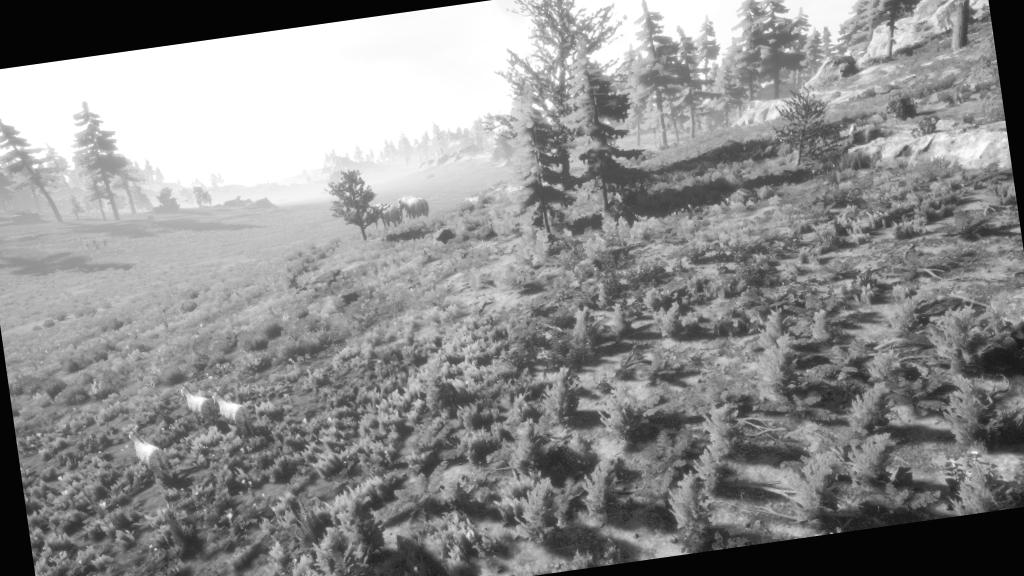zebra: (204, 370, 280, 451), (118, 412, 184, 504), (164, 371, 226, 434)
